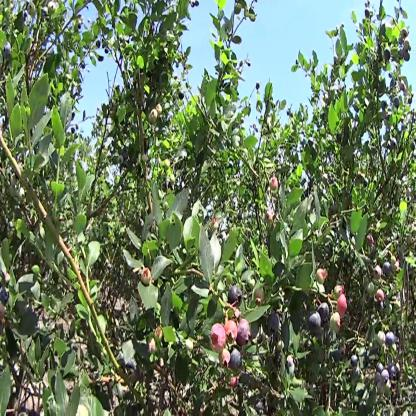intermediate: (236, 315, 253, 349), (210, 326, 228, 353), (222, 321, 240, 347), (336, 294, 350, 320), (316, 263, 330, 288), (141, 265, 154, 288), (217, 351, 231, 371), (268, 175, 281, 194), (333, 281, 346, 299), (375, 288, 385, 306)
mature: (227, 286, 247, 311), (307, 311, 322, 338), (317, 302, 331, 327), (231, 348, 244, 372), (375, 362, 390, 381), (386, 330, 396, 349), (351, 352, 361, 370), (177, 88, 186, 104)
young: (331, 309, 342, 337), (150, 104, 163, 125), (376, 328, 387, 349), (47, 1, 58, 17), (374, 265, 383, 281)
